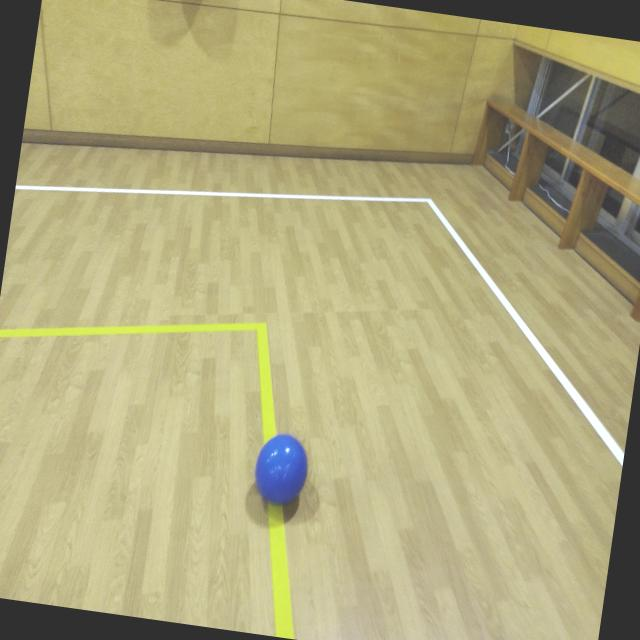blue_ball: (252, 429, 311, 508)
